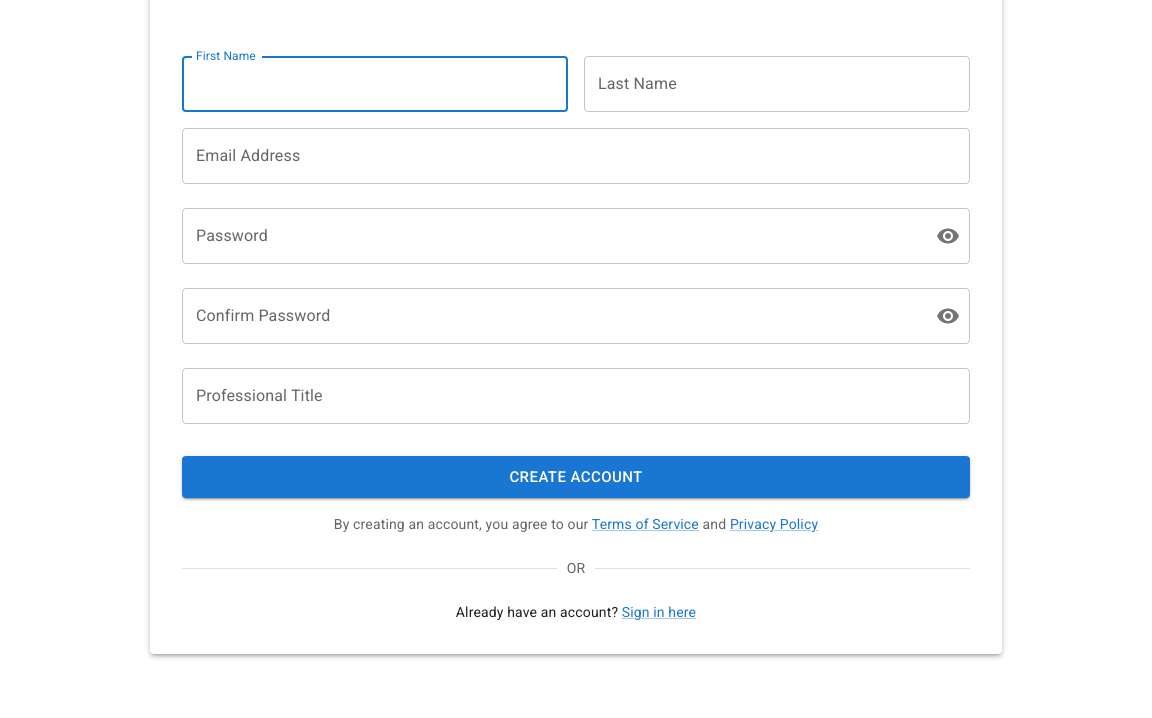
Authentication Components › RegisterPage › shows validation errors for required fields
(page scrolled)
Click the button "Create Account".
click(576, 477)  # box left=182, top=456, right=970, bottom=498
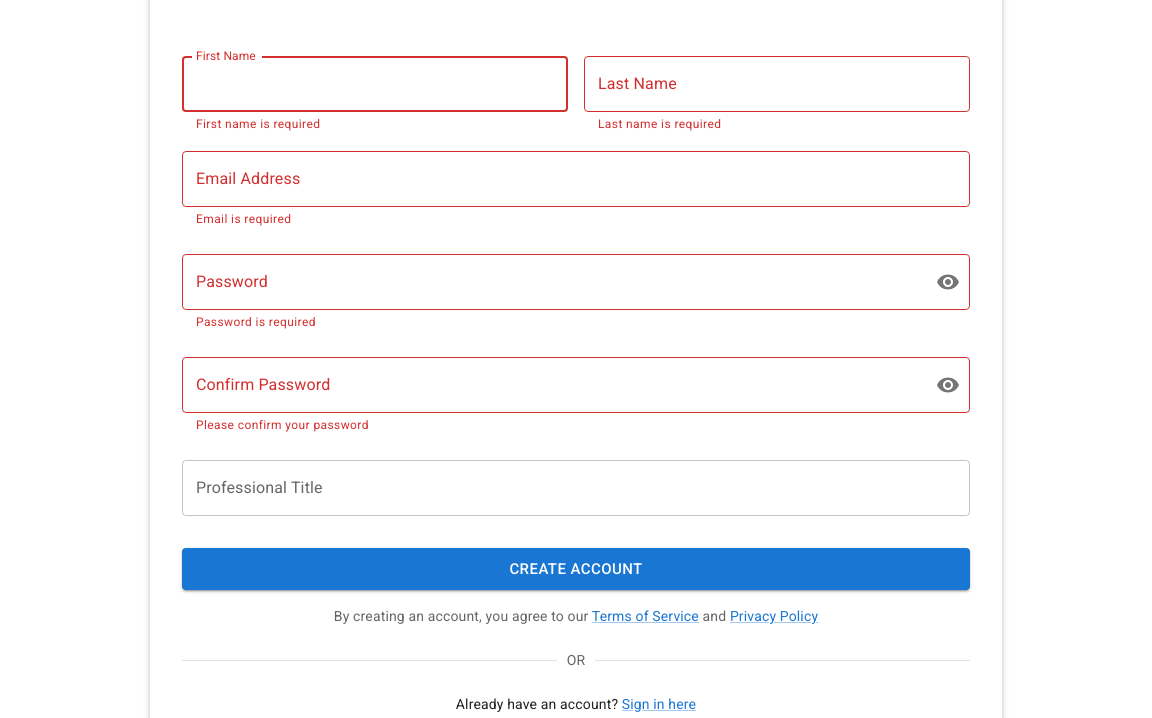
Now the text "First name is required" is shown, box left=196, top=117, right=320, bottom=131
Now the text "Last name is required" is shown, box left=598, top=117, right=721, bottom=131
Now the text "Email is required" is shown, box left=196, top=212, right=291, bottom=226
